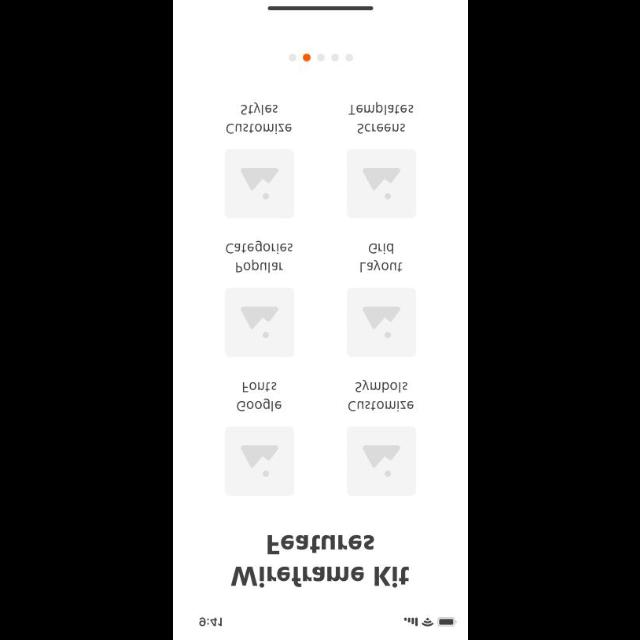image: (224, 426, 294, 496), (346, 426, 416, 496), (224, 287, 294, 357), (346, 287, 416, 357), (224, 148, 294, 218), (346, 148, 416, 218)
pageindicator: (288, 54, 354, 62)
text: (231, 532, 409, 588), (225, 240, 292, 274), (347, 378, 413, 412), (225, 101, 291, 135), (348, 102, 412, 134), (236, 381, 282, 411), (359, 243, 403, 273)
uppertaskbar: (199, 616, 457, 628)
